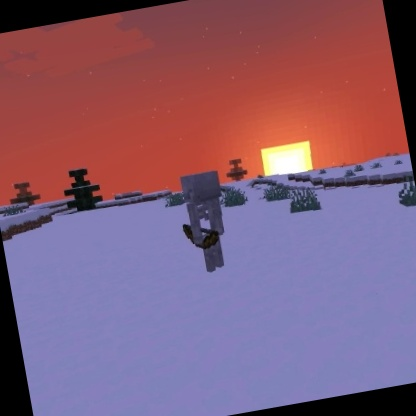skeleton: (171, 166, 239, 280)
